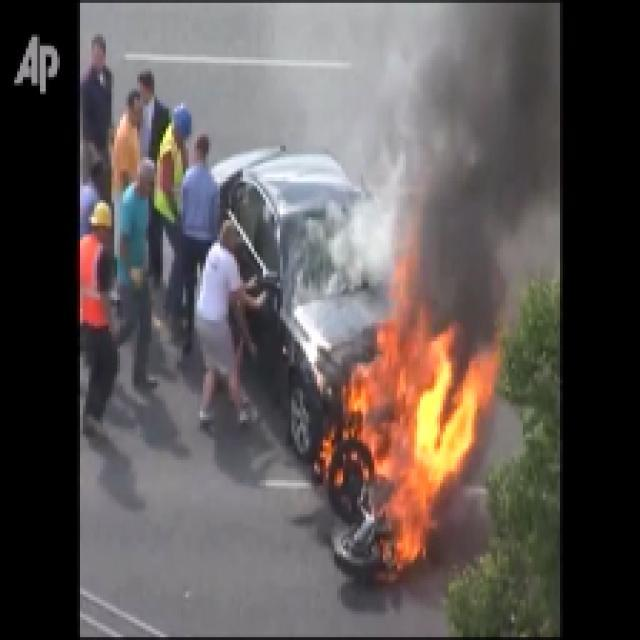Fire: (353, 356, 478, 522)
Smoke: (404, 23, 536, 328)
